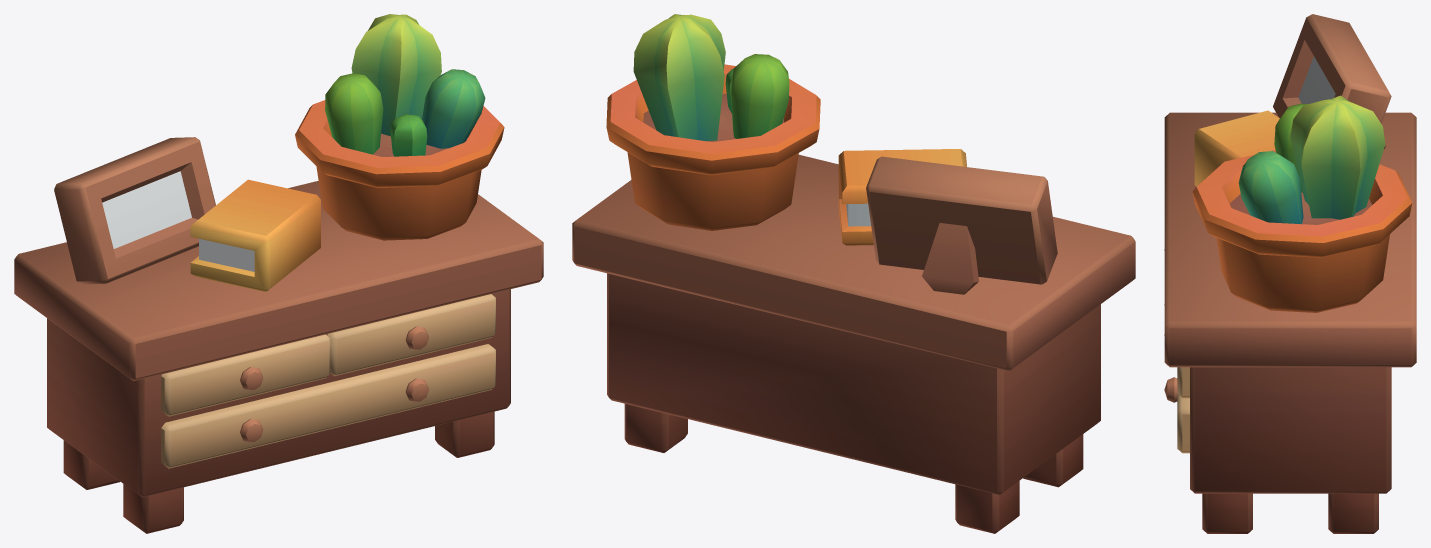
File: cabinet_medium_decorated.glb
3 renders of one model, left to right at view 1: azimuth 30°, elevation 25°; view 2: azimuth 150°, elevation 25°; view 3: azimuth 270°, elevation 25°, orthographic. The views are drawn at different scales.
Visible parts, largest first — view 1: cabinet_medium_decorated; view 2: cabinet_medium_decorated; view 3: cabinet_medium_decorated.
Boxes of the visible parts, box(x1,y1,x2,y2) form: cabinet_medium_decorated: box(14, 14, 543, 533); cabinet_medium_decorated: box(572, 14, 1135, 533); cabinet_medium_decorated: box(1164, 14, 1416, 533).
Bounding box in the file's own units: 2.04 × 1.83 × 1.
1 material, 1 textured.
